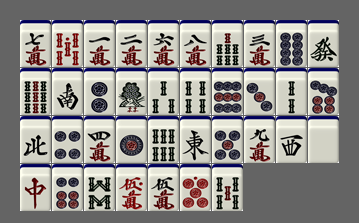0m: (116, 164, 147, 211)
0p: (180, 164, 211, 211)
0s: (52, 20, 83, 67)
1m: (84, 20, 115, 67)
1p: (116, 116, 147, 163)
1s: (116, 68, 147, 115)
1z: (180, 116, 211, 163)
2m: (116, 20, 147, 67)
2p: (84, 68, 115, 115)
2s: (276, 68, 307, 115)
2z: (52, 68, 83, 115)
3m: (244, 20, 275, 67)
3p: (244, 68, 275, 115)
3s: (148, 68, 179, 115)
3z: (276, 116, 307, 163)
4m: (84, 116, 115, 163)
4p: (52, 116, 83, 163)
4s: (180, 68, 211, 115)
4z: (20, 116, 51, 163)
5m: (148, 164, 179, 211)
5p: (212, 116, 243, 163)
5s: (212, 164, 243, 211)
5z: (308, 116, 339, 163)
6m: (148, 20, 179, 67)
6p: (52, 164, 83, 211)
6s: (148, 116, 179, 163)
6z: (308, 20, 339, 67)
7m: (20, 20, 51, 67)
7p: (308, 68, 339, 115)
7s: (212, 20, 243, 67)
7z: (20, 164, 51, 211)
8m: (180, 20, 211, 67)
8p: (276, 20, 307, 67)
8s: (84, 164, 115, 211)
9m: (244, 116, 275, 163)
9p: (212, 68, 243, 115)
9s: (20, 68, 51, 115)
